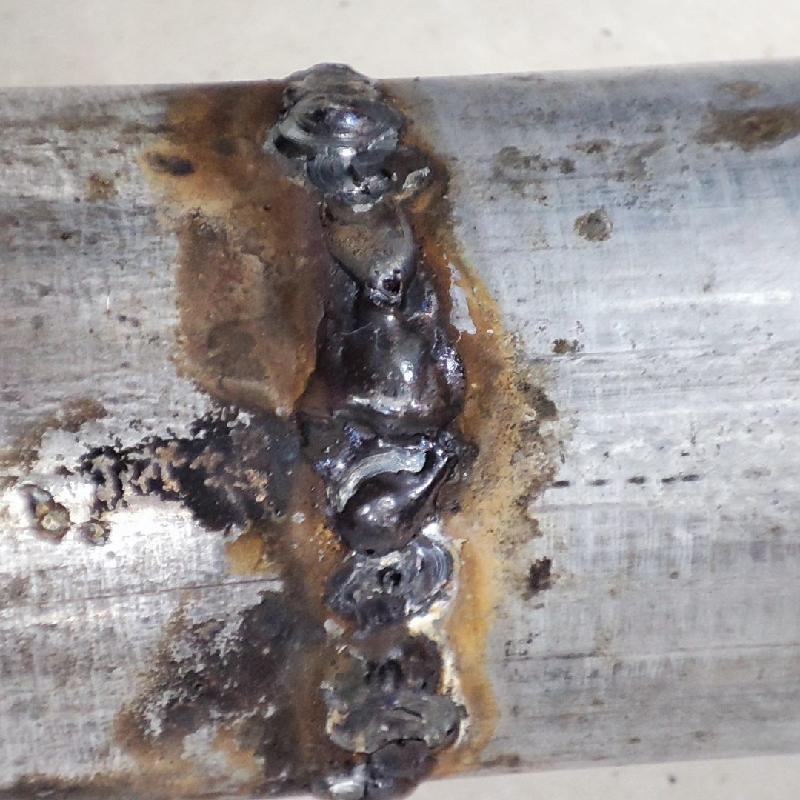Not_fully_soldered: (310, 560, 473, 747), (303, 157, 438, 310)
Surface_pores: (365, 258, 419, 305), (375, 561, 413, 599)
Weld: (305, 314, 468, 561)
wrong_size: (263, 62, 406, 160)
